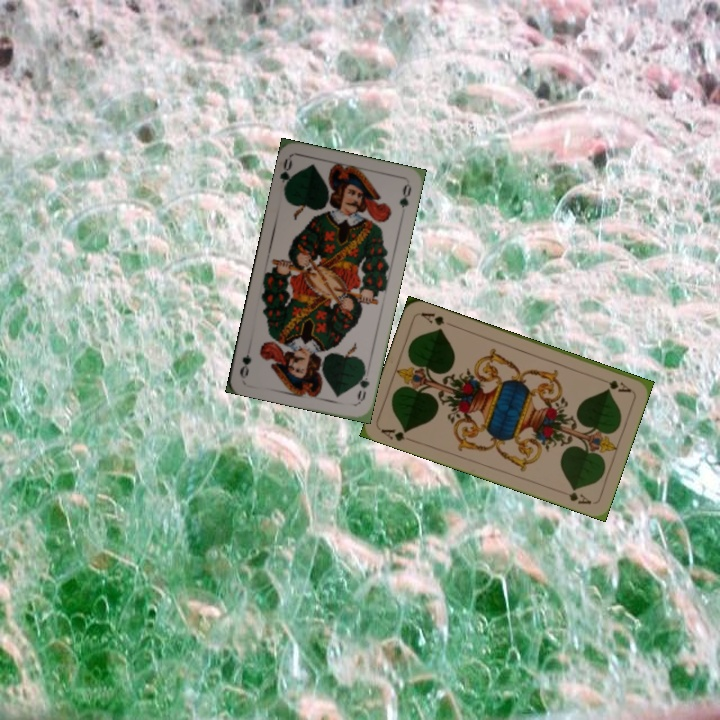GA: (595, 374, 634, 395), (377, 425, 416, 445)
GO: (276, 155, 297, 195), (353, 364, 372, 405)
